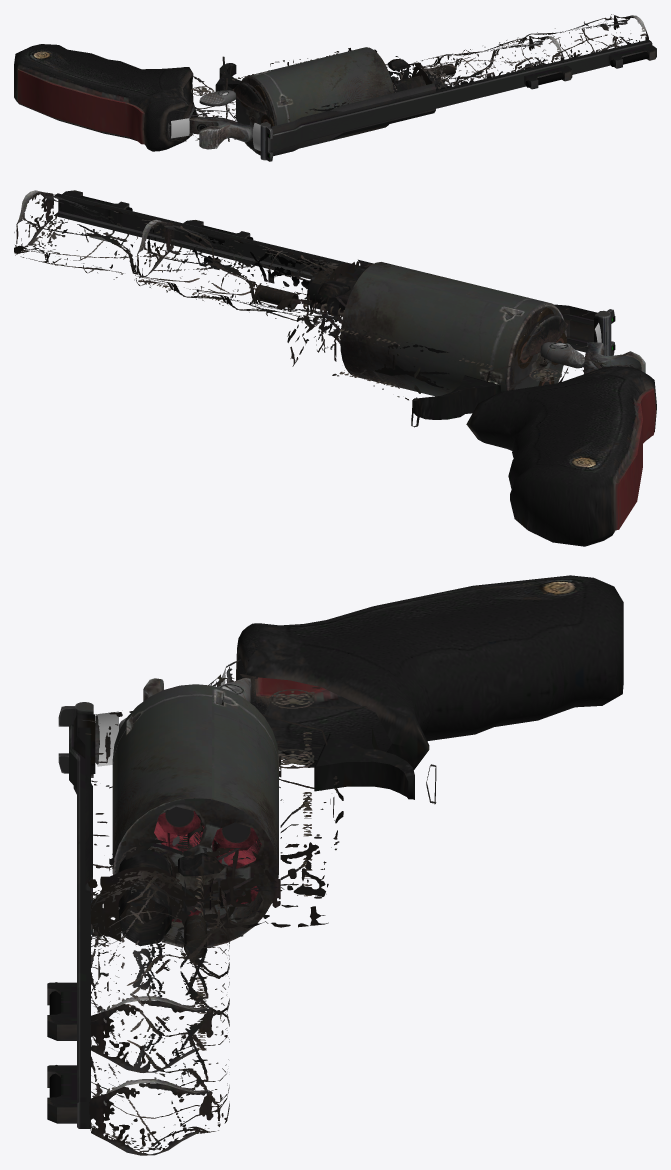
The model's file is t6_wpn_pistol_judge_view_LOD0.obj.
3 views of the same model, one above another, from view 1: azimuth 30°, elevation 25°; view 2: azimuth 150°, elevation 25°; view 3: azimuth 270°, elevation 25° (orthographic). The views are drawn at different scales.
Parts seen in each view (by area): view 1: mtl_t6_wpn_pistol_judge_camo2, mtl_t6_wpn_pistol_judge_camo1, mtl_t6_wpn_pistol_judge, mtl_t6_wpn_pistol_judge_camo3, mtl_t6_attach_tritium_red_glo, mtl_player_icon, mtl_t6_wpn_pistol_judge_shell; view 2: mtl_t6_wpn_pistol_judge_camo2, mtl_t6_wpn_pistol_judge, mtl_t6_wpn_pistol_judge_camo1, mtl_t6_wpn_pistol_judge_camo3, mtl_t6_wpn_pistol_judge_shell; view 3: mtl_t6_wpn_pistol_judge_camo2, mtl_t6_wpn_pistol_judge, mtl_t6_wpn_pistol_judge_camo1, mtl_t6_wpn_pistol_judge_shell, mtl_clan_tag.
Part boxes in pixels (left/top/right/bottom): mtl_t6_wpn_pistol_judge_camo2: left=14, top=42, right=652, bottom=151; mtl_t6_wpn_pistol_judge_camo1: left=18, top=35, right=656, bottom=161; mtl_t6_wpn_pistol_judge: left=165, top=14, right=651, bottom=156; mtl_t6_wpn_pistol_judge_camo3: left=232, top=83, right=266, bottom=151; mtl_t6_attach_tritium_red_glo: left=525, top=52, right=648, bottom=87; mtl_player_icon: left=171, top=118, right=189, bottom=138; mtl_t6_wpn_pistol_judge_shell: left=240, top=85, right=274, bottom=153; mtl_t6_wpn_pistol_judge_camo2: left=57, top=199, right=656, bottom=546; mtl_t6_wpn_pistol_judge: left=14, top=190, right=606, bottom=427; mtl_t6_wpn_pistol_judge_camo1: left=62, top=190, right=656, bottom=530; mtl_t6_wpn_pistol_judge_camo3: left=519, top=315, right=568, bottom=383; mtl_t6_wpn_pistol_judge_shell: left=514, top=307, right=566, bottom=385; mtl_t6_wpn_pistol_judge_camo2: left=69, top=575, right=623, bottom=1128; mtl_t6_wpn_pistol_judge: left=71, top=659, right=436, bottom=1155; mtl_t6_wpn_pistol_judge_camo1: left=47, top=677, right=414, bottom=1123; mtl_t6_wpn_pistol_judge_shell: left=154, top=806, right=261, bottom=922; mtl_clan_tag: left=97, top=711, right=118, bottom=766.
Size of the model in its own units: 49.96 by 6.95 by 24.06.
